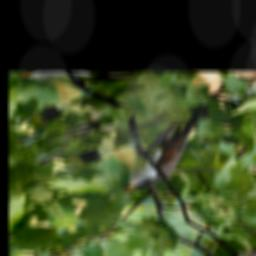Cuckoo: (92, 106, 248, 197)
